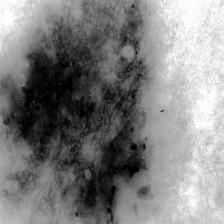Benign Marking or Mole: (0, 0, 152, 224)
